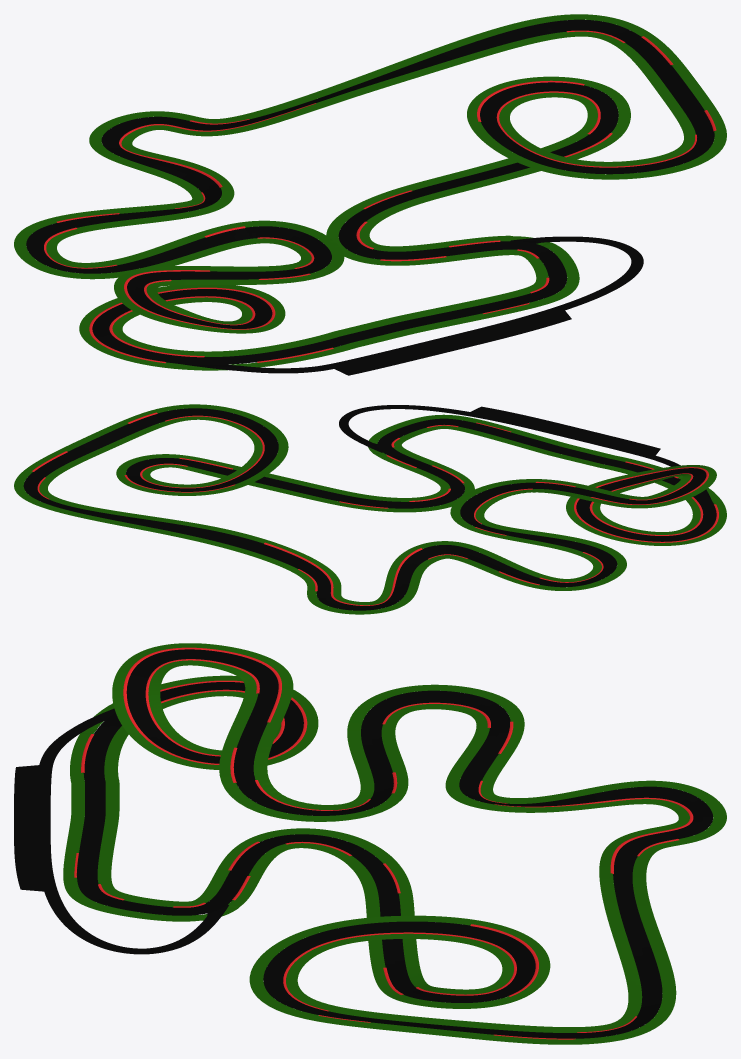
Rendered from Testing Circuit JS.fbx.
The picture shows the model from 3 angles, top to bottom: view 1: azimuth 30°, elevation 25°; view 2: azimuth 150°, elevation 25°; view 3: azimuth 270°, elevation 25°; orthographic projection. The views are drawn at different scales.
Visible parts, largest first — view 1: Trackside A, Combined Track, Curbs; view 2: Trackside A, Combined Track, Curbs; view 3: Trackside A, Combined Track, Curbs.
Boxes of the visible parts, left/top/right/bottom form: Trackside A: left=14, top=14, right=726, bottom=370; Combined Track: left=26, top=19, right=714, bottom=375; Curbs: left=44, top=30, right=716, bottom=363; Trackside A: left=14, top=404, right=726, bottom=614; Combined Track: left=23, top=405, right=716, bottom=610; Curbs: left=32, top=412, right=718, bottom=605; Trackside A: left=63, top=643, right=726, bottom=1044; Combined Track: left=14, top=649, right=712, bottom=1038; Curbs: left=74, top=647, right=693, bottom=1039.
Size of the model in its own units: 80696 by 4676 by 62167.
